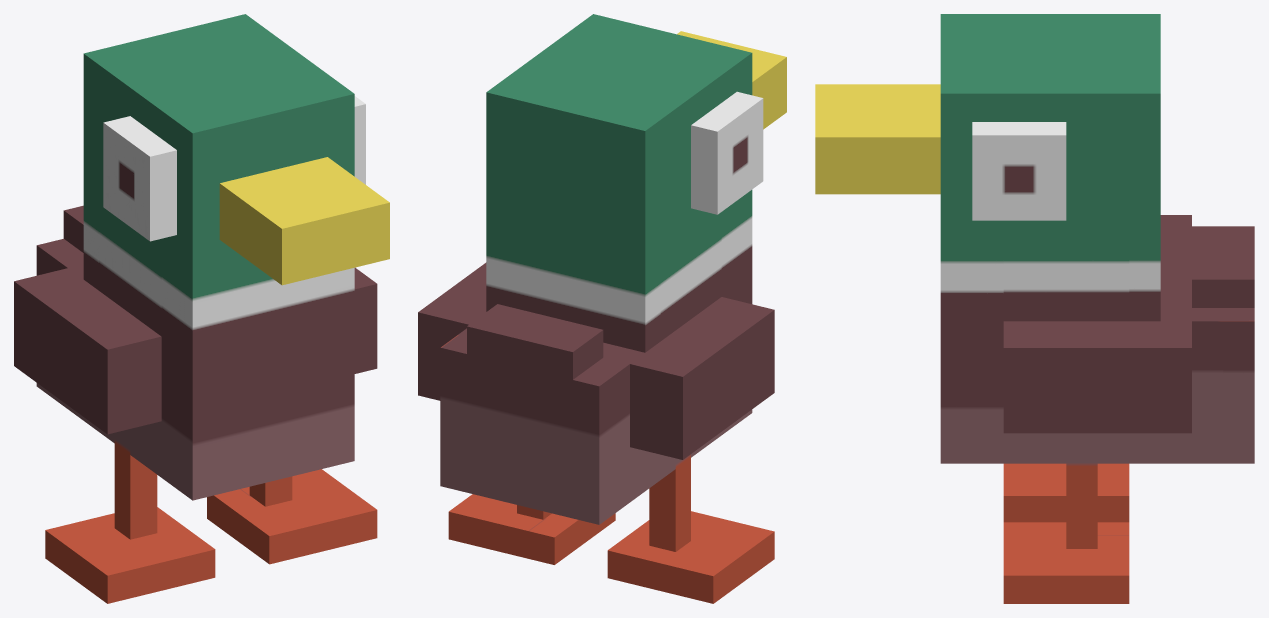
File: Duck.fbx
3 views of the same model, side by side, from view 1: azimuth 30°, elevation 25°; view 2: azimuth 150°, elevation 25°; view 3: azimuth 270°, elevation 25° (orthographic). The views are drawn at different scales.
Parts seen in each view (by area): view 1: Duck; view 2: Duck; view 3: Duck.
Boxes of the visible parts, x1=… form: Duck: x1=14, y1=14, x2=389, y2=603; Duck: x1=418, y1=14, x2=786, y2=603; Duck: x1=815, y1=14, x2=1254, y2=603.
Bounding box in the file's own units: 50 × 85 × 70.
